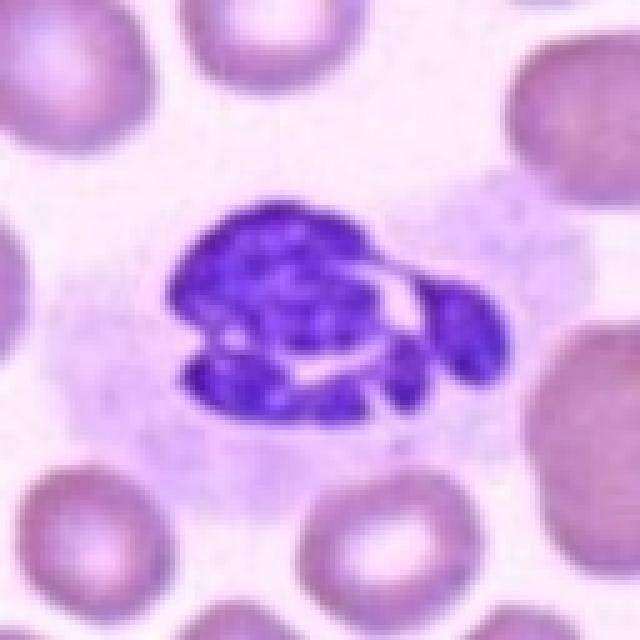neutro: (72, 81, 552, 572)
